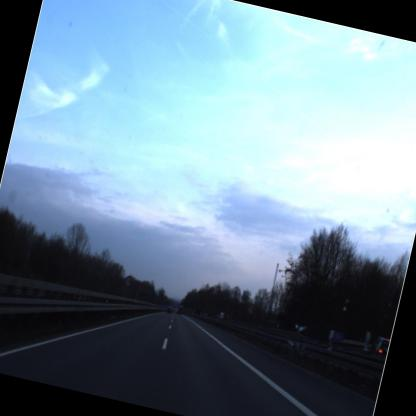prohibitory: (244, 300, 259, 322), (121, 272, 136, 292)
